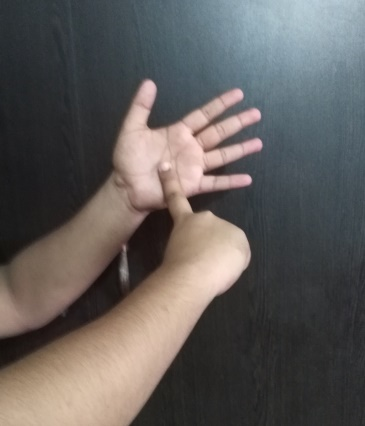oo: (111, 80, 267, 298)
